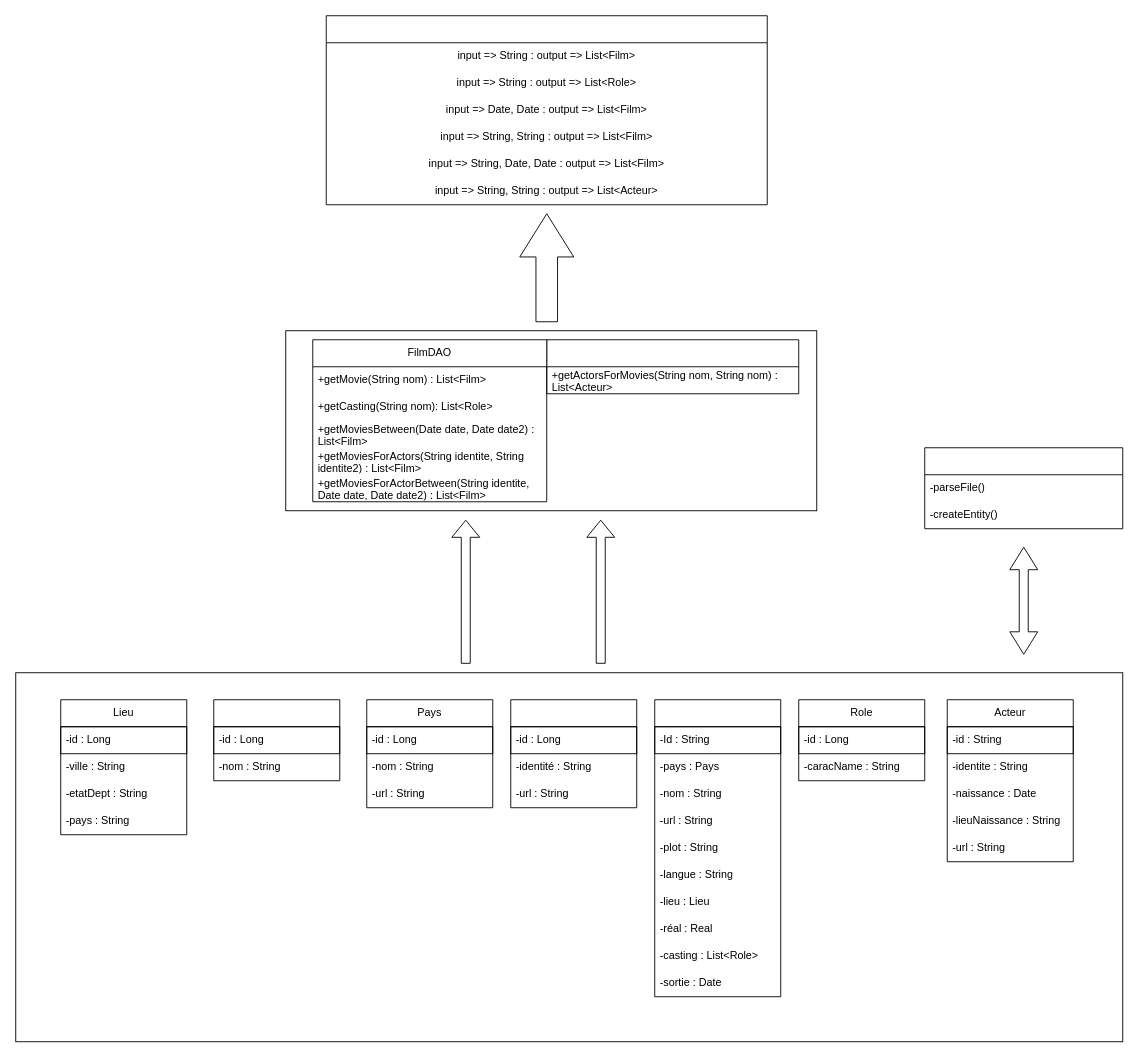
Some shapes in this 1139 by 1058 pixel diagram are drawn without their labels. The shapes that lost their labels are listed below. From the top down, each one's box as (x1, y1, x2, y2) in pixels, then its label:
(325, 15, 767, 205): View
(546, 339, 799, 394): ActeurDAO
(924, 447, 1123, 529): parser
(213, 699, 340, 781): Genre
(510, 699, 637, 808): Realisateur
(654, 699, 781, 997): Film
